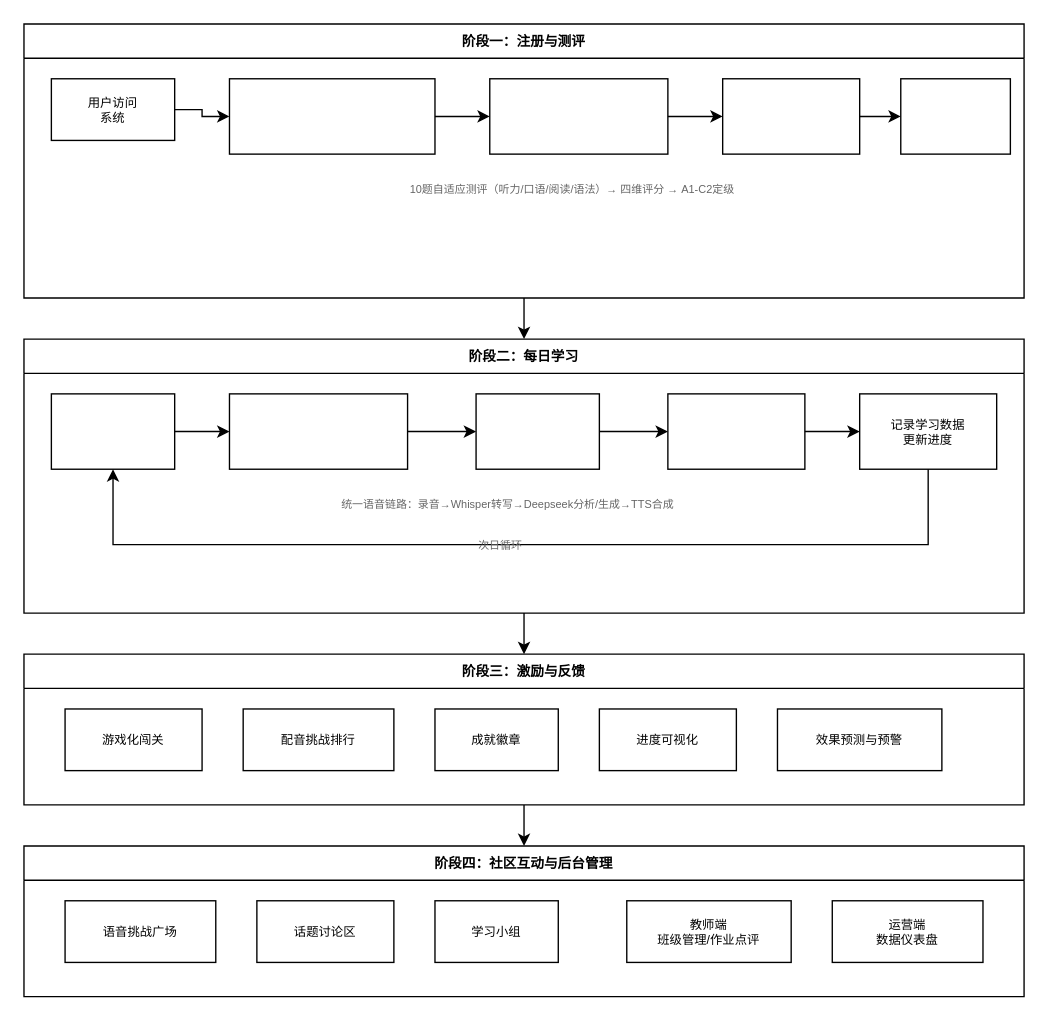
The diagram is 1048 pixels wide and 1021 high, and some of its shapes have lost their labels. Here are the shapes that lost their labels. From the top down, the centre of each, then its label:
At pixel 331 115: "填写注册信息 (用户名/密码/年龄/目标/兴趣)".
At pixel 578 115: "系统自动 年龄归类+画像生成".
At pixel 790 115: "强制跳转 水平测评".
At pixel 954 115: "CEFR定级 解锁主功能".
At pixel 112 431: "每日登录 获取任务".
At pixel 318 431: "规则引擎生成 3个任务 (跟读+对话+听力)".
At pixel 537 431: "执行任务".
At pixel 736 431: "AI 评分/反馈".
